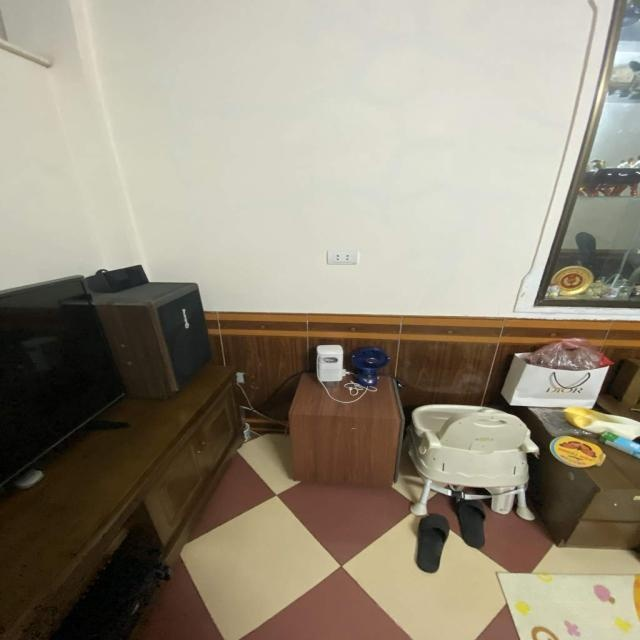outlet: (326, 249, 359, 265)
